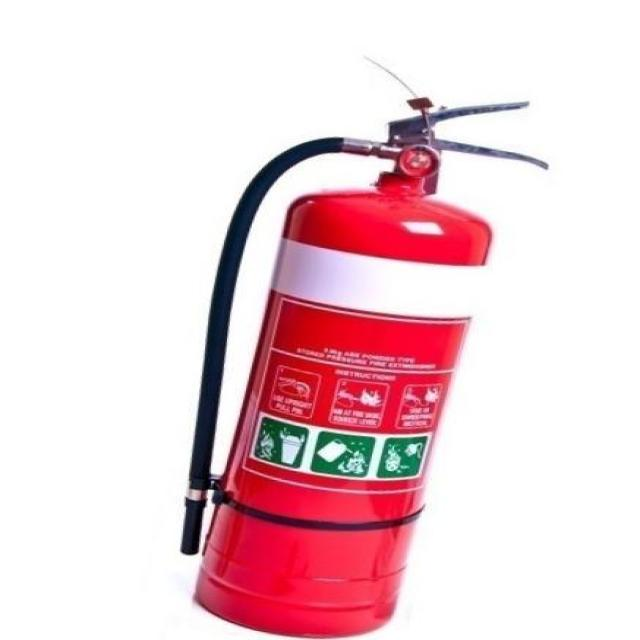fire_extinguisher: (171, 97, 555, 639)
